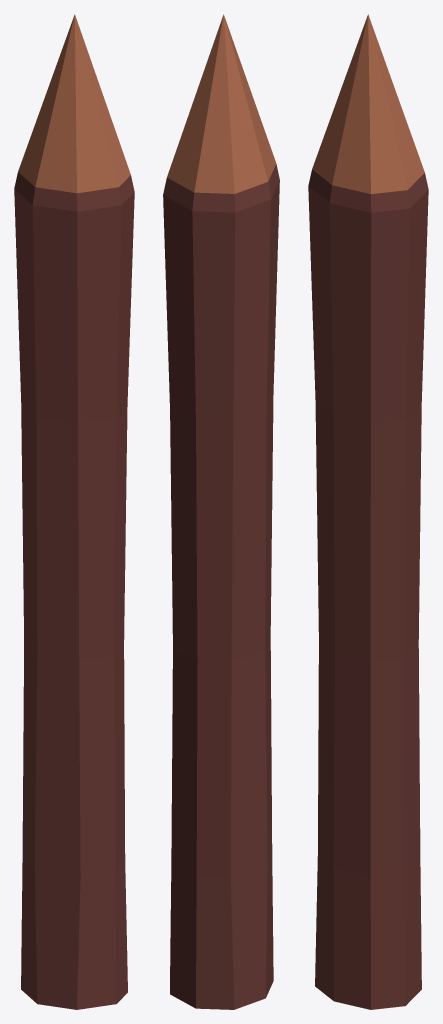
File: Wooden Pole Sharp 14.fbx
3 views of the same model, side by side, from view 1: azimuth 90°, elevation 25°; view 2: azimuth 150°, elevation 25°; view 3: azimuth 270°, elevation 25° (orthographic).
Visible parts, largest first — view 1: Wooden Pole Sharp 14; view 2: Wooden Pole Sharp 14; view 3: Wooden Pole Sharp 14.
Part boxes in pixels (x1,y1,x2,y2): Wooden Pole Sharp 14: [14, 14, 134, 1009]; Wooden Pole Sharp 14: [163, 14, 279, 1009]; Wooden Pole Sharp 14: [308, 14, 428, 1009].
Size of the model in its own units: 29.65 by 292 by 32.67.
